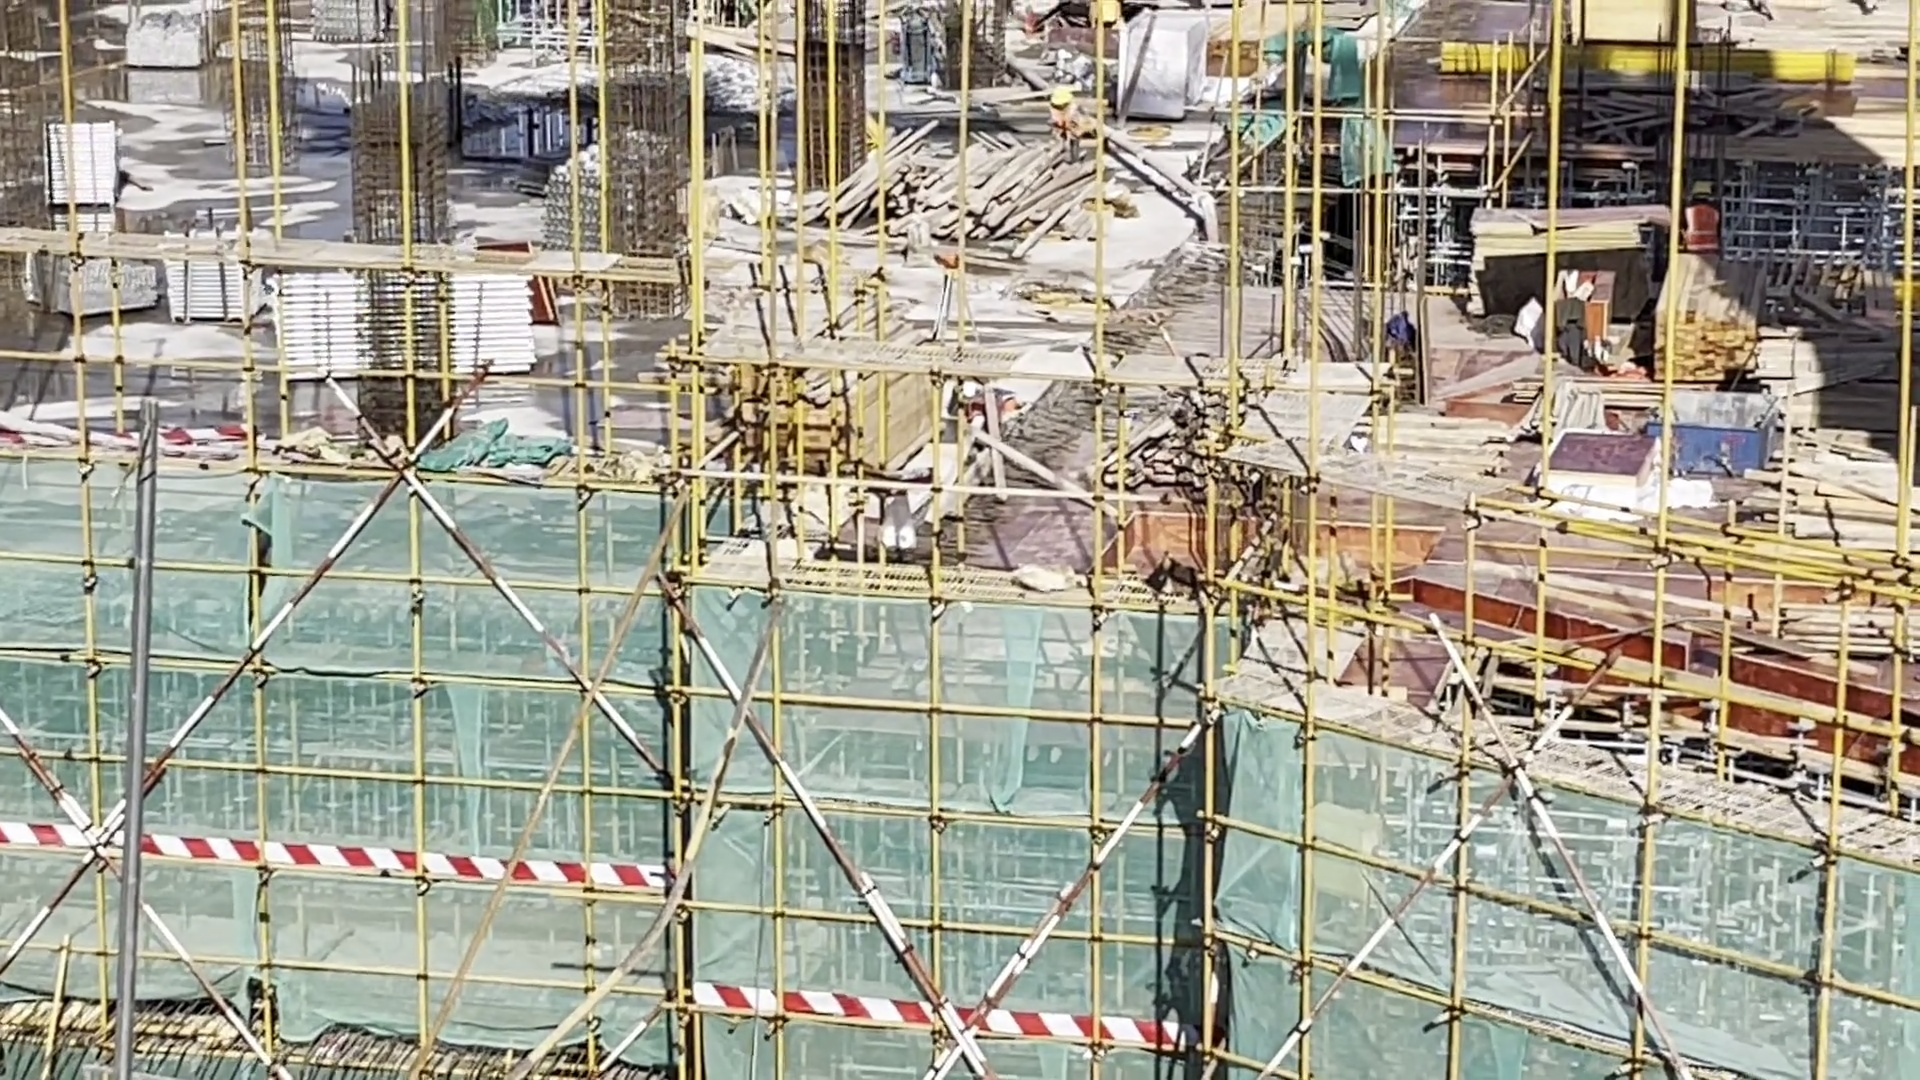helmet: (958, 378, 981, 415), (1043, 79, 1064, 108)
hopper: (1656, 386, 1767, 485)
person: (948, 379, 1023, 437), (1050, 91, 1097, 159)
scaffold: (273, 271, 534, 368), (171, 230, 259, 313)
wood: (822, 124, 1088, 302), (1741, 429, 1910, 590), (699, 353, 895, 478), (1632, 239, 1767, 401)
